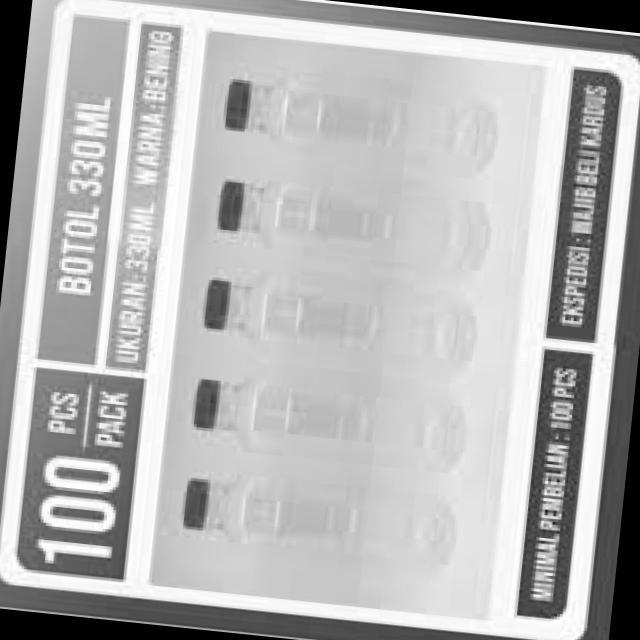good: (186, 352, 472, 482), (208, 148, 494, 272), (220, 57, 511, 176), (175, 464, 462, 577), (196, 258, 486, 368)
